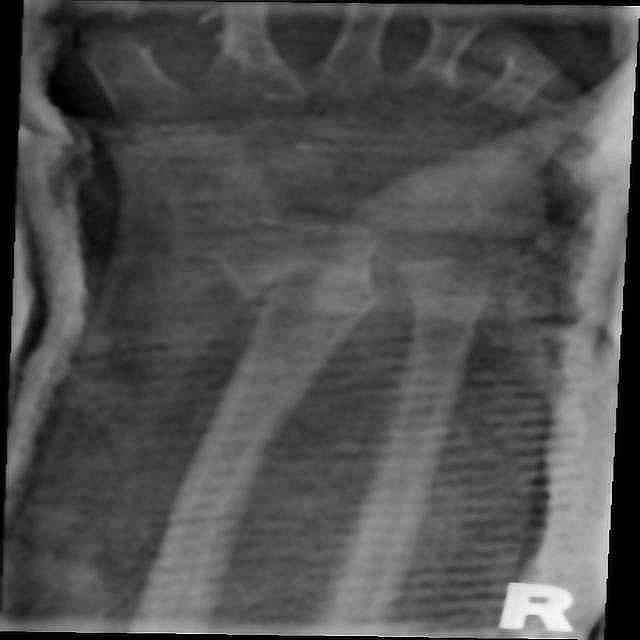bone: (232, 274, 384, 328), (402, 282, 496, 314)
